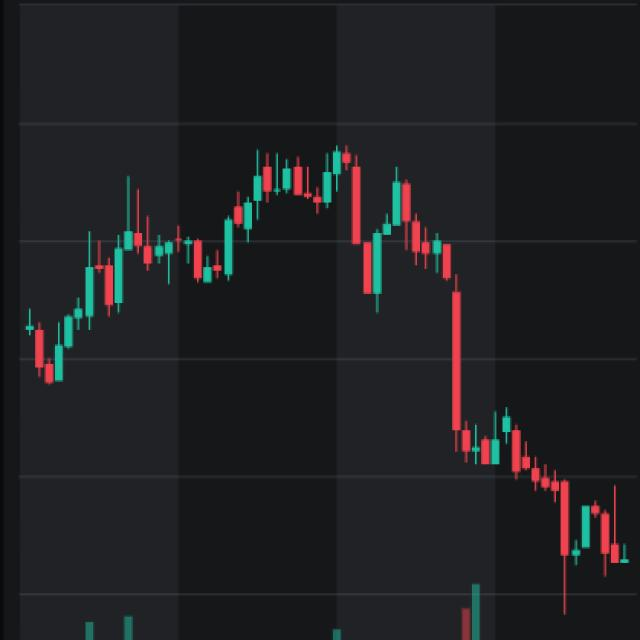Support-breakout: (60, 136, 632, 579)
